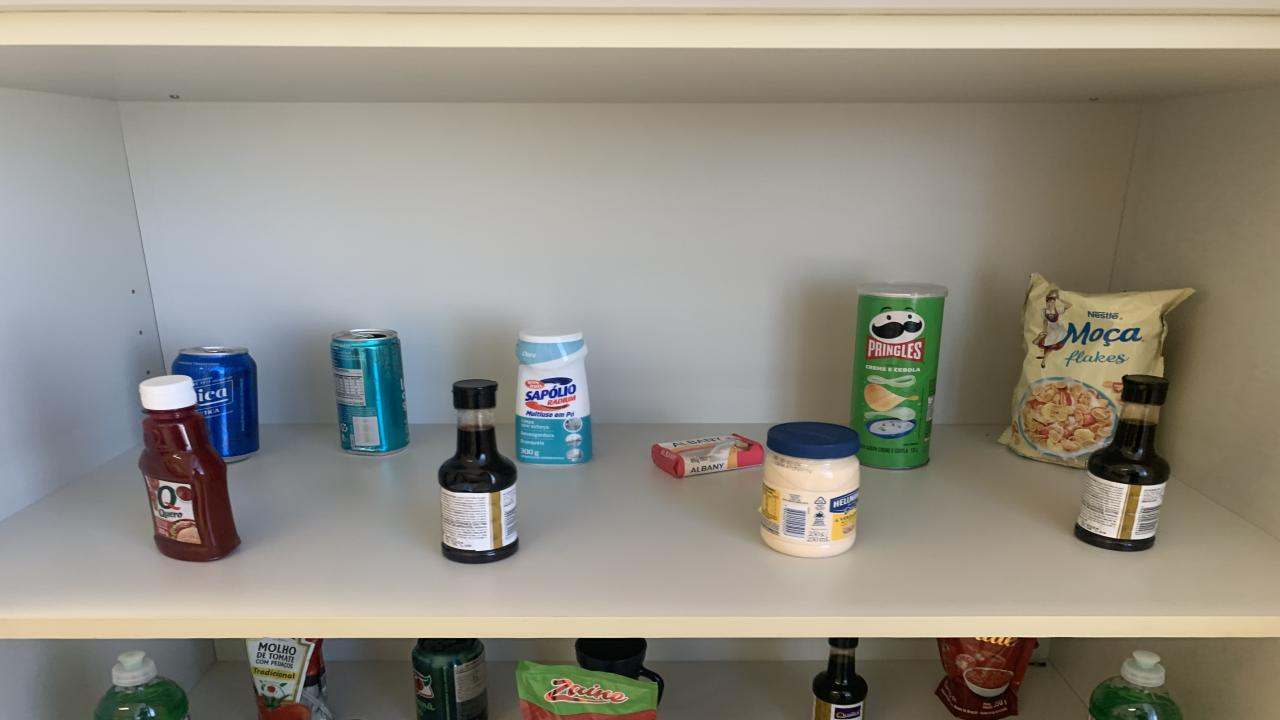Cleaner-Cleanup_Items: (515, 330, 592, 465)
Detergent-Cleanup_Items: (95, 651, 190, 720), (1090, 651, 1182, 720)
English_Sauce-Pantry_Items: (1075, 375, 1170, 551), (438, 379, 518, 564), (812, 638, 868, 720)
Flakes-Snacks: (1000, 274, 1192, 467)
Guarana_Can-Drinks: (412, 638, 488, 720)
Ketchup-Pantry_Items: (138, 375, 240, 562)
Mayonnaise-Pantry_Items: (760, 422, 860, 557)
Pringles-Snacks: (850, 283, 948, 469)
Soap-Cleanup_Items: (650, 435, 762, 476)
Tea-Drinks: (330, 328, 410, 456)
Tomato_Sauce-Pantry_Items: (515, 660, 658, 718), (935, 638, 1038, 718), (248, 638, 332, 720)
Tonic-Drinks: (172, 347, 260, 463)
